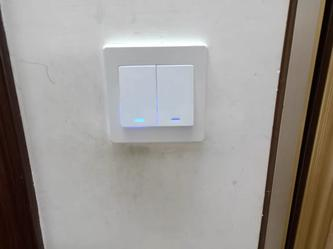switch: (114, 61, 160, 130), (154, 61, 198, 129)
